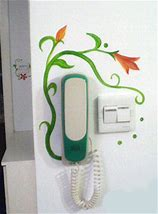switch: (103, 106, 117, 124), (118, 106, 131, 123)
